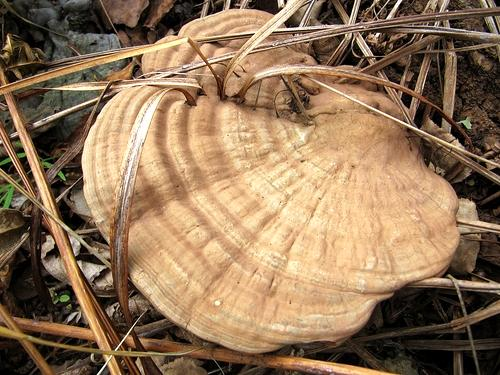Ganoderma - Fruit Body: (80, 4, 456, 353)
